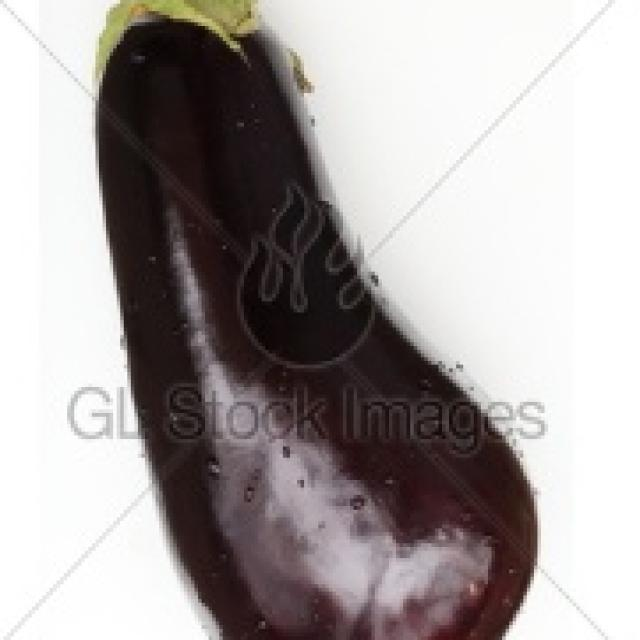eggplant: (99, 3, 544, 640)
